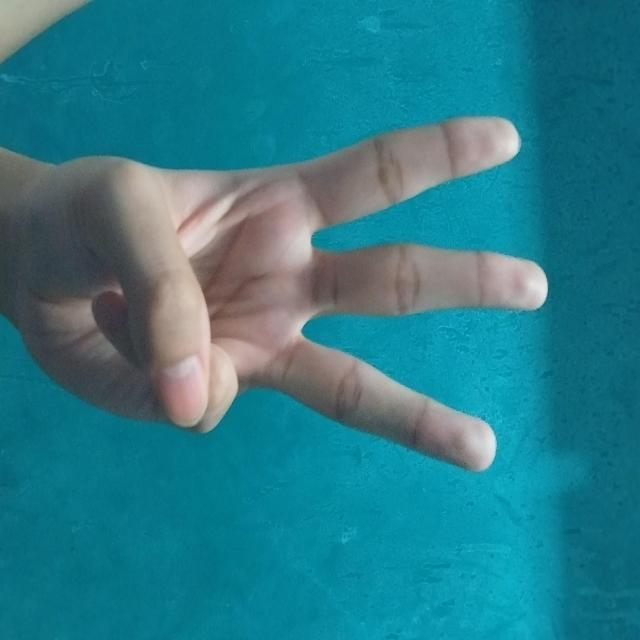W: (112, 91, 476, 625)
